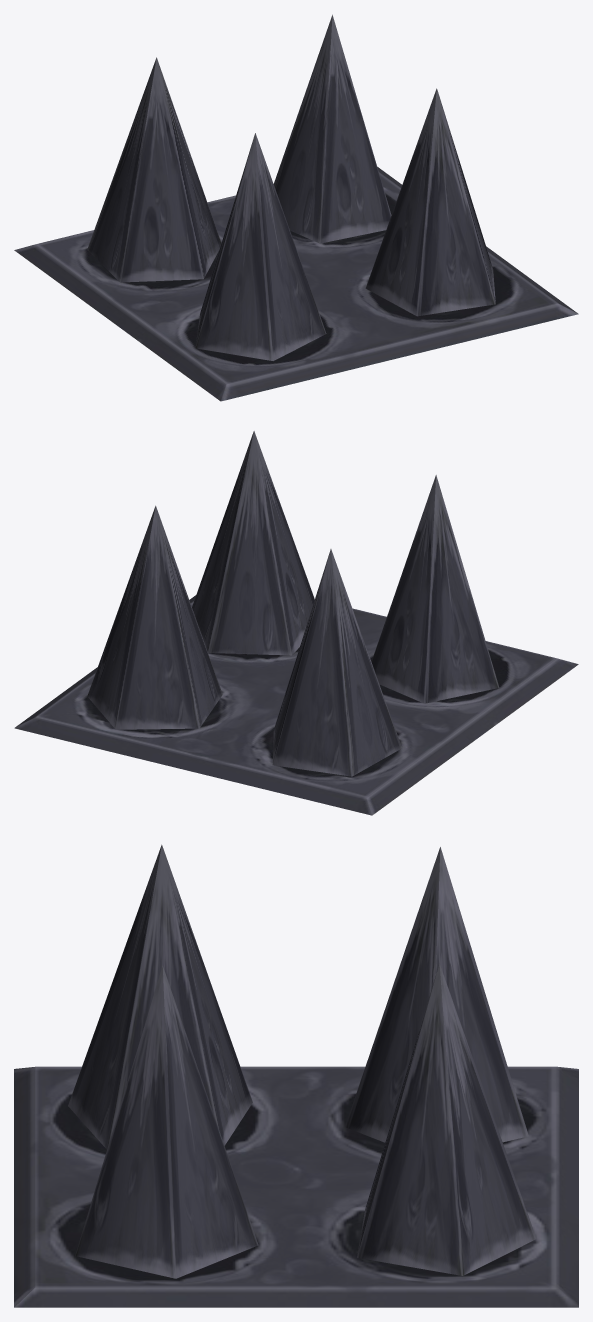
File: spikes.FBX
3 renders of one model, top to bottom at view 1: azimuth 30°, elevation 25°; view 2: azimuth 150°, elevation 25°; view 3: azimuth 270°, elevation 25°, orthographic. The views are drawn at different scales.
Visible parts, largest first — view 1: spikes, spike_plate; view 2: spikes, spike_plate; view 3: spikes, spike_plate.
Part boxes in pixels (left/top/right/bottom): spikes: left=87, top=14, right=495, bottom=360; spike_plate: left=14, top=167, right=578, bottom=401; spikes: left=87, top=431, right=499, bottom=776; spike_plate: left=14, top=595, right=578, bottom=815; spikes: left=68, top=844, right=536, bottom=1278; spike_plate: left=14, top=1066, right=578, bottom=1307.
Bounding box in the file's own units: 30 × 16.83 × 30.
